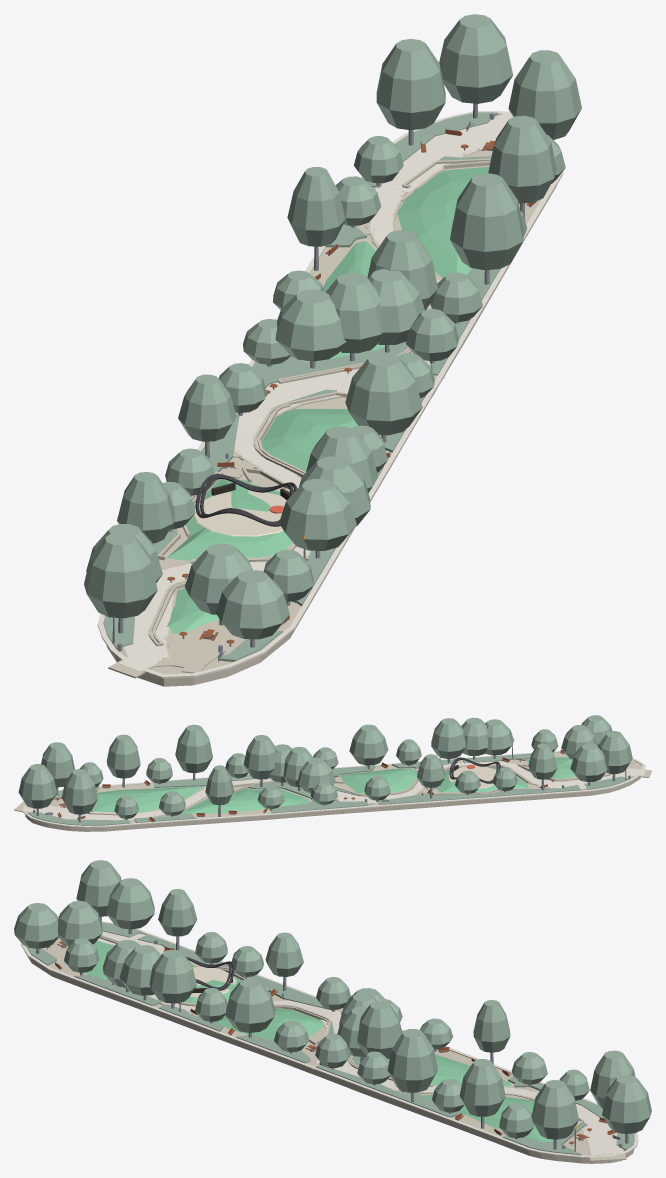
The model's file is mid.glb.
3 views of the same model, one above another, from view 1: azimuth 30°, elevation 25°; view 2: azimuth 150°, elevation 25°; view 3: azimuth 270°, elevation 25° (orthographic). The views are drawn at different scales.
Visible parts, largest first — view 1: tree_crowns, grp_Toy_mint, path_glow, beds, ground_plate, grp_Toy_stone, grp_Toy_cream, play_surfacing, grp_Toy_steel, shout_tubes; view 2: tree_crowns, grp_Toy_mint, beds, ground_plate, path_glow, grp_Toy_cream, grp_Toy_stone, grp_Toy_steel, play_surfacing, furniture_wood, shout_tubes; view 3: tree_crowns, beds, ground_plate, grp_Toy_mint, grp_Toy_cream, path_glow, grp_Toy_stone, grp_Toy_steel, play_surfacing, furniture_wood.
Part boxes in pixels (<box>): tree_crowns: <box>84,14,581,639</box>; grp_Toy_mint: <box>167,166,489,633</box>; path_glow: <box>118,112,512,671</box>; beds: <box>103,112,500,661</box>; ground_plate: <box>106,114,557,686</box>; grp_Toy_stone: <box>108,111,509,678</box>; grp_Toy_cream: <box>97,111,563,678</box>; play_surfacing: <box>193,491,286,536</box>; grp_Toy_steel: <box>112,103,536,661</box>; shout_tubes: <box>195,474,297,526</box>; tree_crowns: <box>18,715,632,818</box>; grp_Toy_mint: <box>92,757,575,813</box>; beds: <box>28,753,629,825</box>; ground_plate: <box>25,752,642,831</box>; path_glow: <box>23,761,645,820</box>; grp_Toy_cream: <box>22,750,645,827</box>; grp_Toy_stone: <box>14,759,651,823</box>; grp_Toy_steel: <box>33,744,630,822</box>; play_surfacing: <box>448,765,496,788</box>; furniture_wood: <box>55,749,564,822</box>; shout_tubes: <box>449,757,500,783</box>; tree_crowns: <box>14,860,651,1139</box>; beds: <box>26,922,634,1155</box>; ground_plate: <box>24,933,634,1163</box>; grp_Toy_mint: <box>64,940,557,1141</box>; grp_Toy_cream: <box>21,921,638,1158</box>; path_glow: <box>97,931,623,1155</box>; grp_Toy_stone: <box>52,916,626,1161</box>; grp_Toy_steel: <box>36,916,628,1151</box>; play_surfacing: <box>190,967,236,997</box>; furniture_wood: <box>47,941,616,1143</box>.
Bounding box in the file's own units: 122 × 21.04 × 121.
